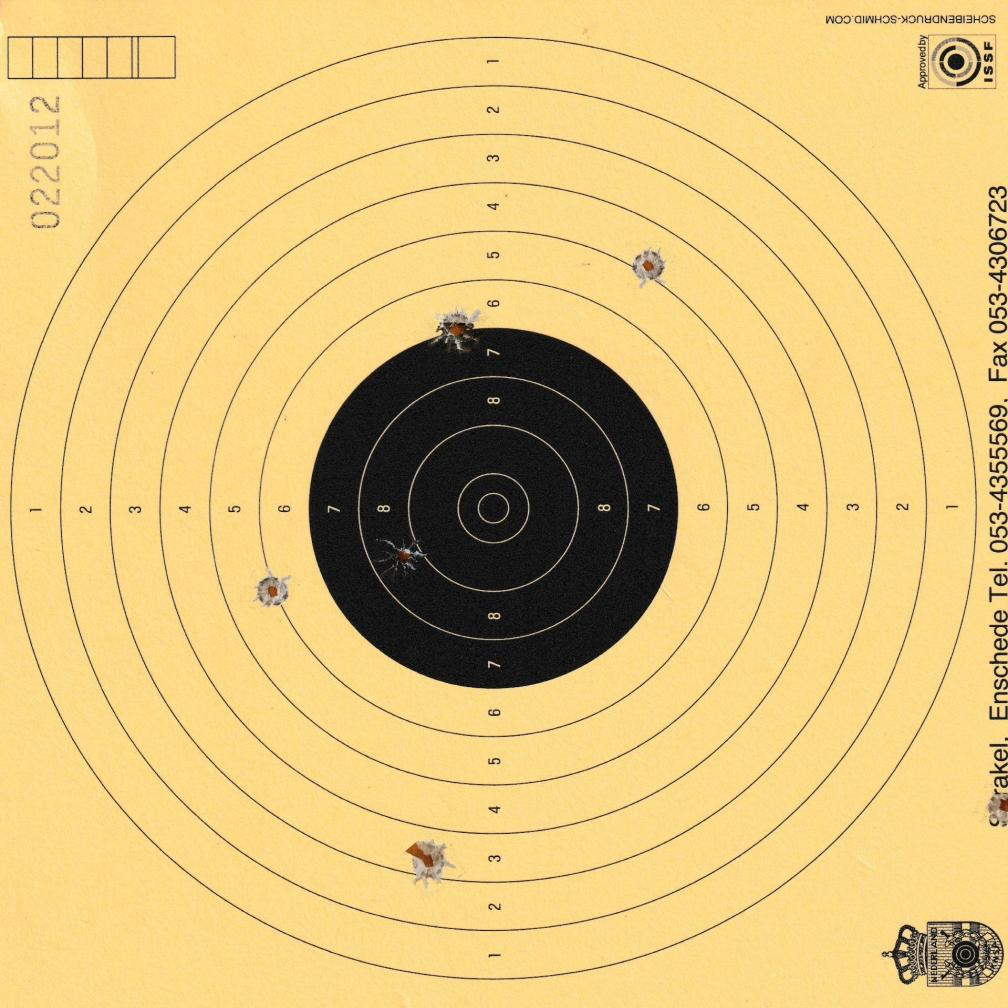0: (983, 788, 1008, 830)
3: (401, 836, 458, 891)
5: (625, 241, 675, 290)
6: (249, 566, 298, 613)
7: (428, 307, 483, 355)
9: (373, 530, 431, 586)
Target: (7, 33, 980, 981)
black_contour: (308, 326, 680, 687)
